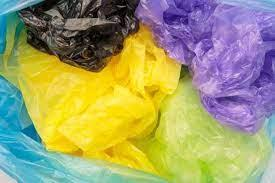LDPE: (0, 13, 176, 150), (132, 0, 275, 138), (151, 73, 275, 183), (14, 0, 142, 74)
